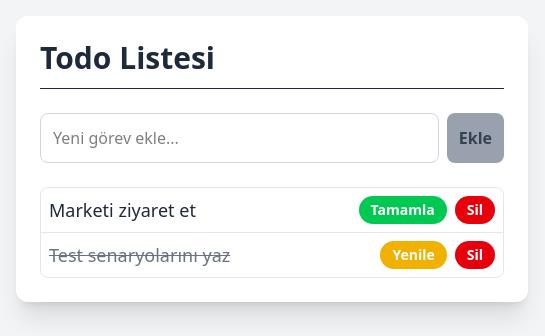
Test: template spec › Tamamlanan görev yenilendikten sonra normal duruma döner mi
Step 1. Click the button with test id "toggle-button" showing "Tamamla" → (403, 210), box [359,196,447,224]
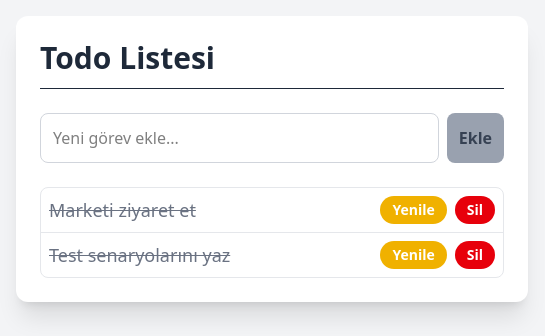
Step 2. Click the button with test id "toggle-button" in the row of "Marketi ziyaret et" → (413, 210), box [380,196,446,224]
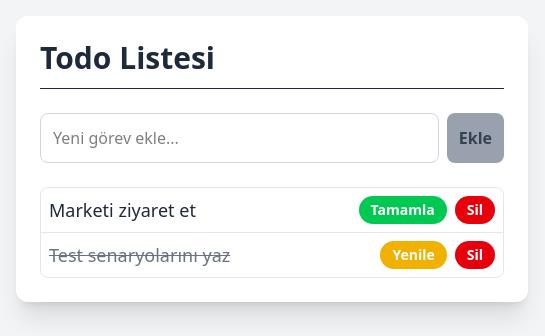
Expected: the button with test id "toggle-button" reads "Tamamla", [359,196,447,224]
